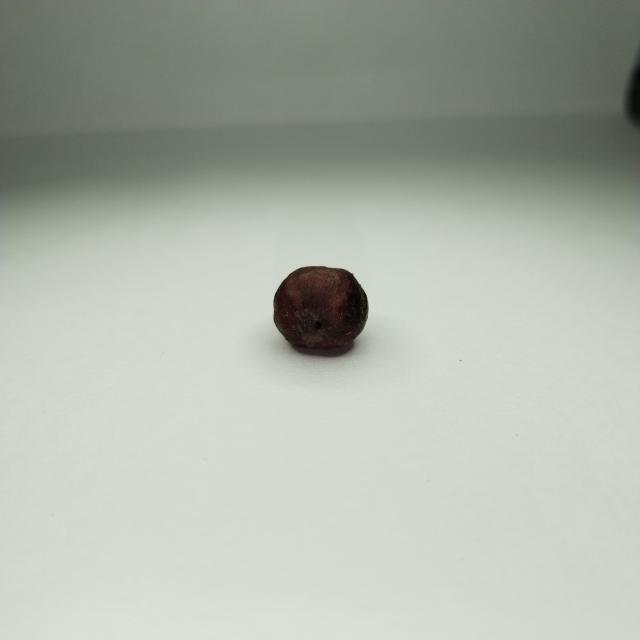Infectado: (273, 269, 370, 359)
